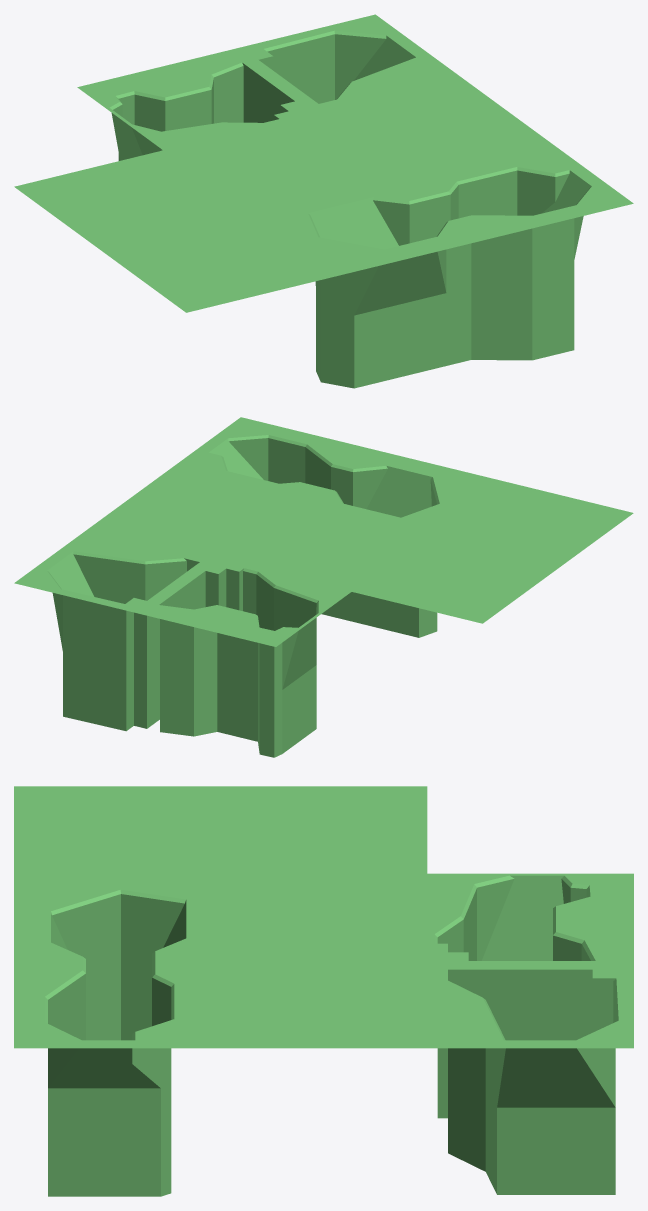
The model's file is x_oo_ground_46_Y7_1_rmstrd.fbx.
3 renders of one model, top to bottom at view 1: azimuth 30°, elevation 25°; view 2: azimuth 150°, elevation 25°; view 3: azimuth 270°, elevation 25°, orthographic. The views are drawn at different scales.
Visible parts, largest first — view 1: x_oo_ground_46_Y7_1_rmstrd1; view 2: x_oo_ground_46_Y7_1_rmstrd1; view 3: x_oo_ground_46_Y7_1_rmstrd1.
Part boxes in pixels (box(x1,y1,x2,y2)): x_oo_ground_46_Y7_1_rmstrd1: box(14, 14, 633, 388); x_oo_ground_46_Y7_1_rmstrd1: box(14, 417, 633, 757); x_oo_ground_46_Y7_1_rmstrd1: box(14, 786, 633, 1196).
Bounding box in the file's own units: 30 × 9.34 × 30.
